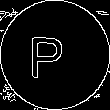P_N: (36, 30, 74, 80)
